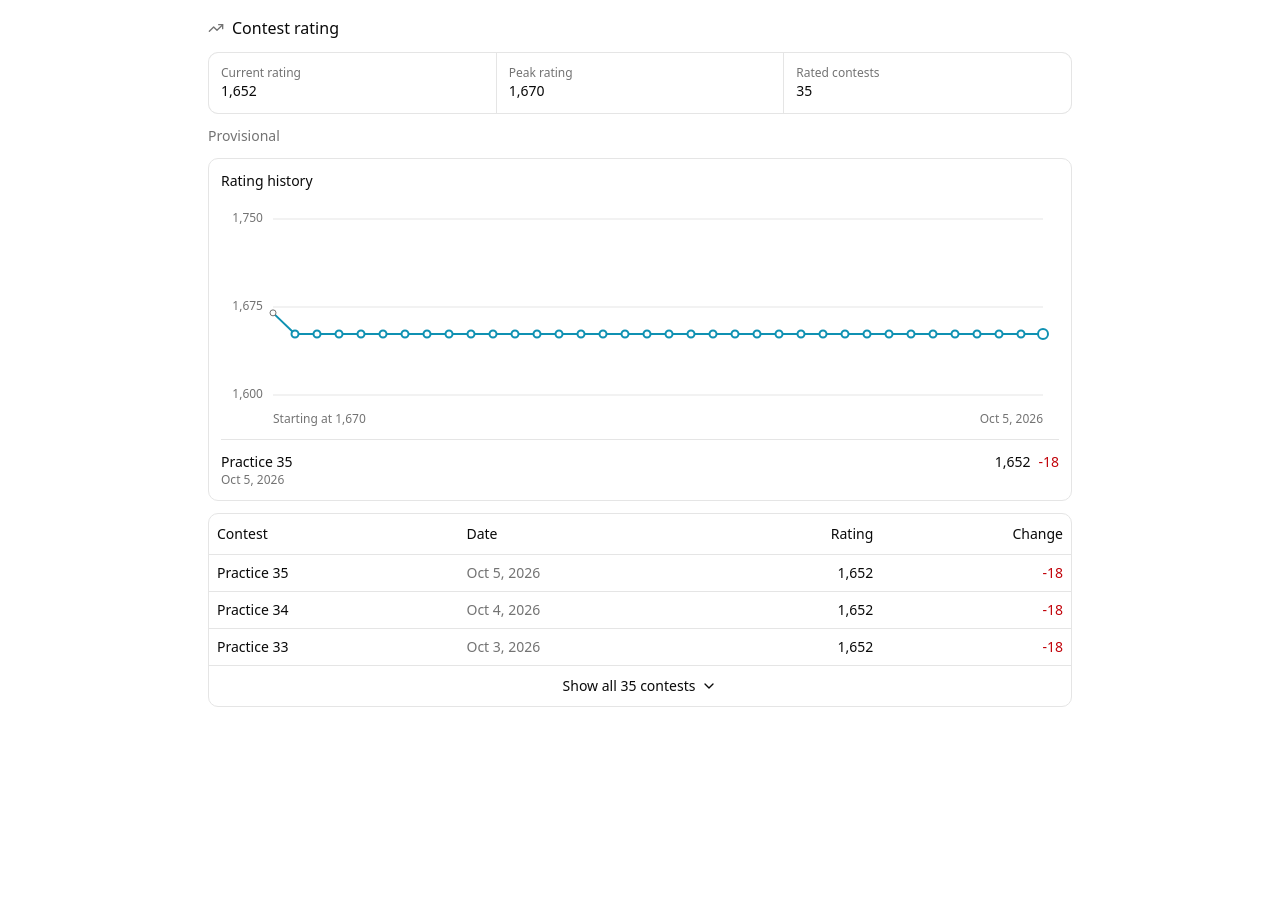
contest rating results › shows the latest three contests and expands the entire history on demand
Check: the number of rows is 4, box 209,514 -> 1071,554; 209,554 -> 1071,591; 209,591 -> 1071,628; 209,628 -> 1071,664
Check: the link "Practice 35" below "Date" is shown, box 217,562 -> 288,582
Click the button "Show all 35 contests" at (640, 686), box 213,670 -> 1067,702
(page scrolled)
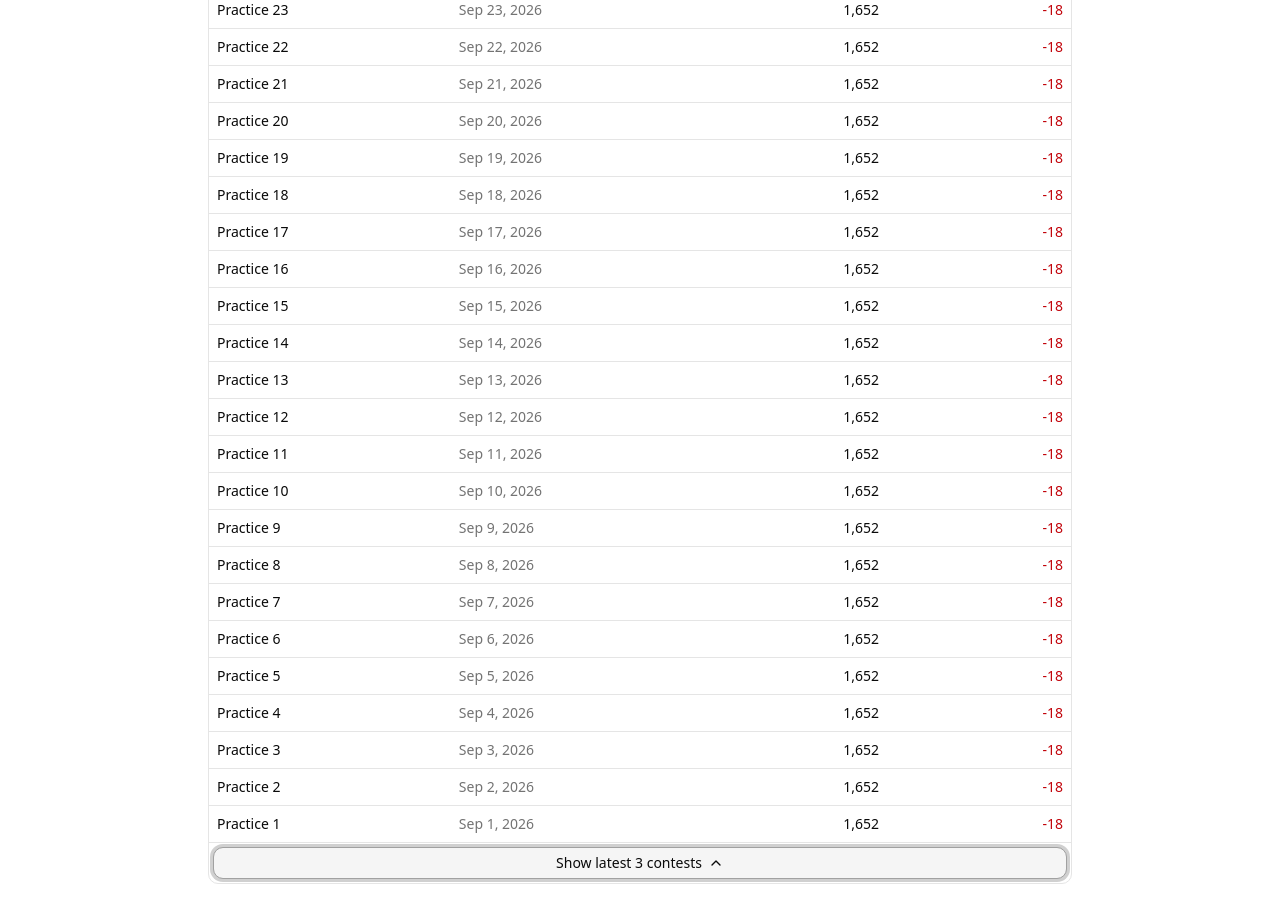
Check: the link "Practice 1" is shown, box 217,814 -> 280,832
Click the button "Show latest 3 contests" at (640, 862), box 213,846 -> 1067,878
(page scrolled)
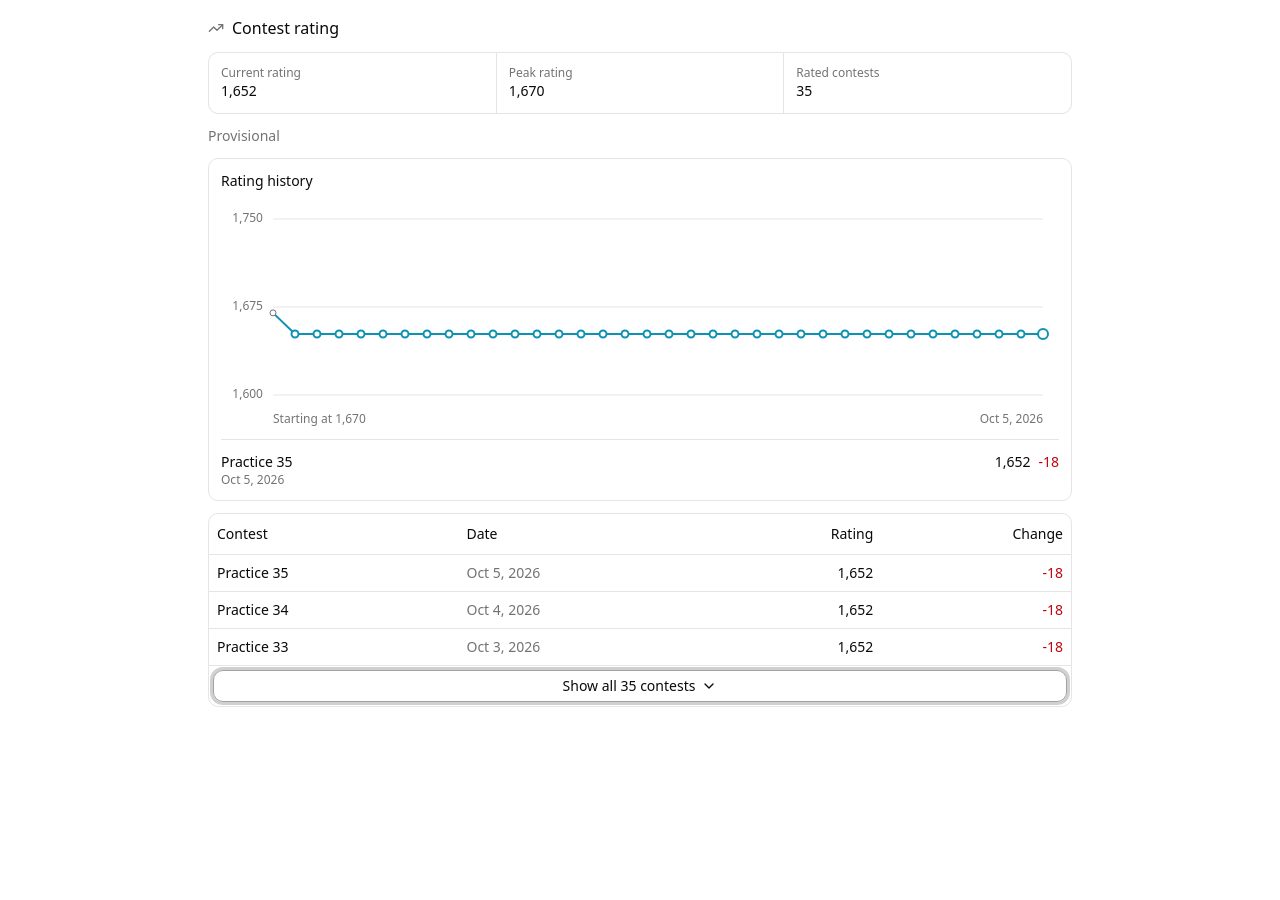
Check: the number of rows is 4, box 209,514 -> 1071,554; 209,554 -> 1071,591; 209,591 -> 1071,628; 209,628 -> 1071,664
